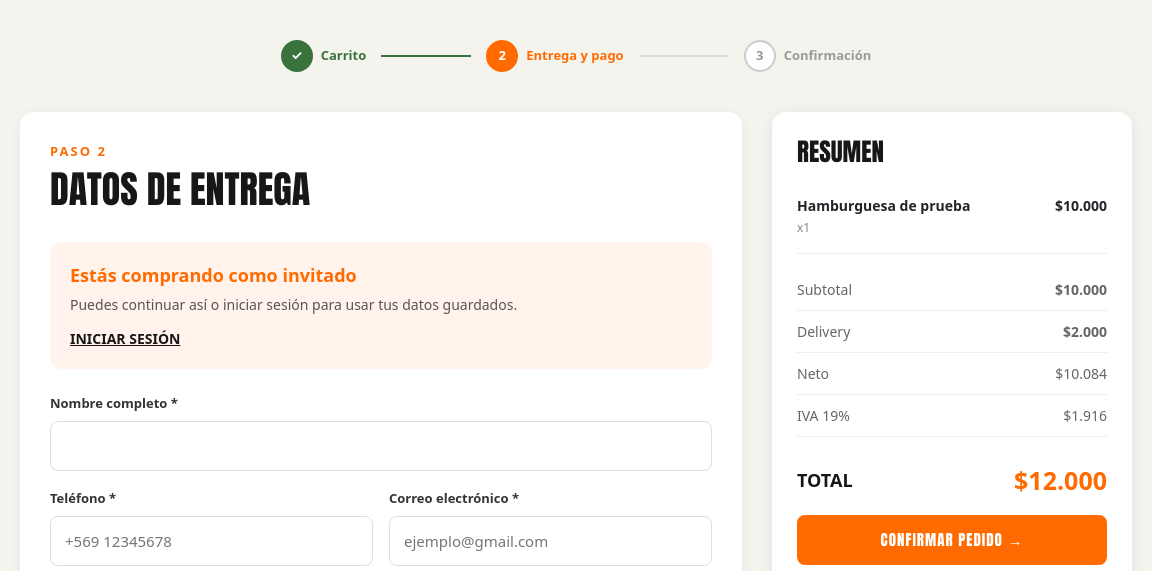
it: Checkout: compra, stock, pedidos y resultados › Validaciones del formulario › 9. Rechaza formulario vacío y no crea pedidos
Click the button "CONFIRMAR PEDIDO →" at {"x": 952, "y": 540}, box [797,514,1107,565]
(page scrolled)
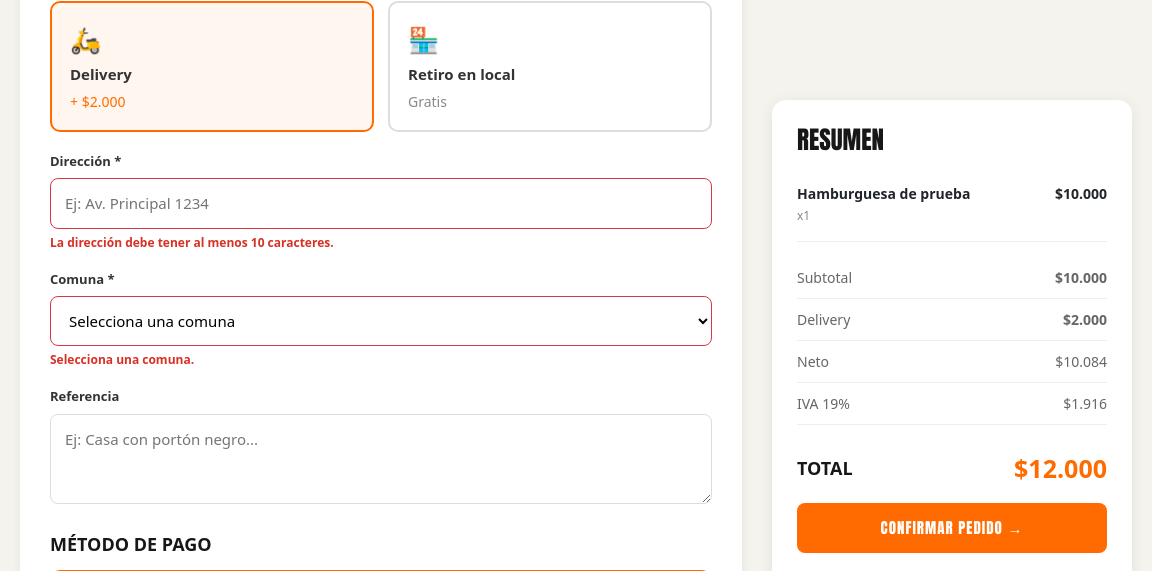
expect the text "Selecciona una comuna." is shown: met, box [50,351,194,368]
